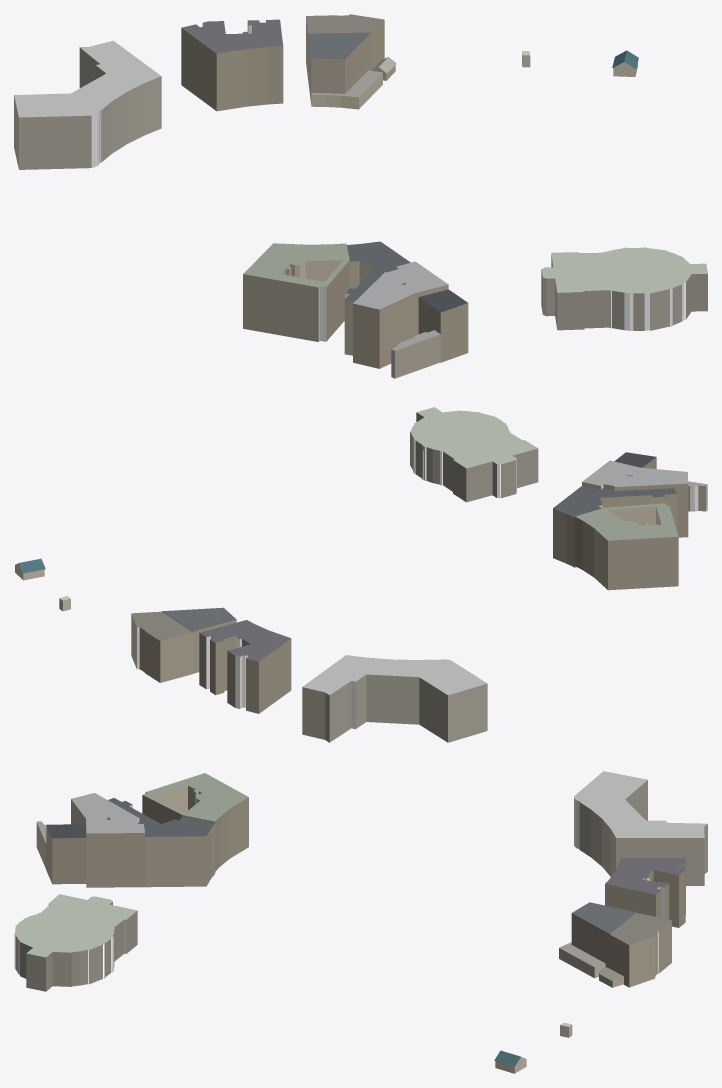
3 renders of one model, top to bottom at view 1: azimuth 30°, elevation 25°; view 2: azimuth 150°, elevation 25°; view 3: azimuth 270°, elevation 25°, orthographic. The views are drawn at different scales.
Visible parts, largest first — view 1: tuile; view 2: tuile; view 3: tuile.
Boxes of the visible parts, box(x1,y1,x2,y2) form: tuile: box(14, 14, 707, 378); tuile: box(15, 407, 707, 742); tuile: box(14, 771, 707, 1073).
Size of the model in its own units: 246 by 25.43 by 283.
